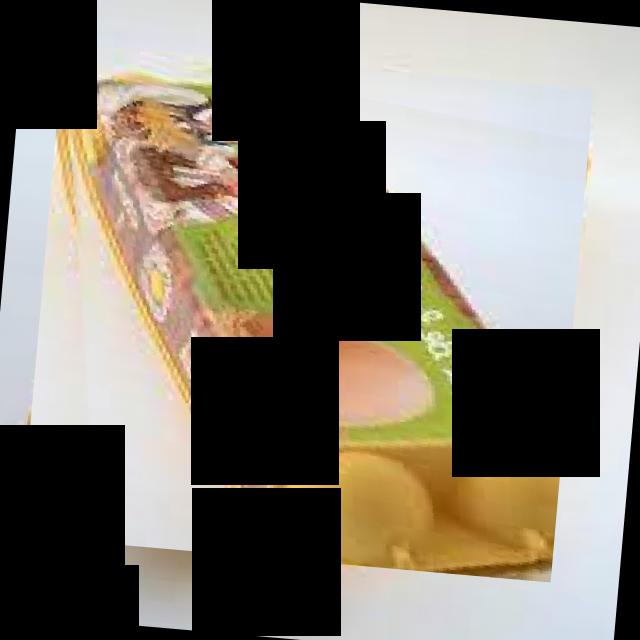eggs: (20, 43, 593, 582)
